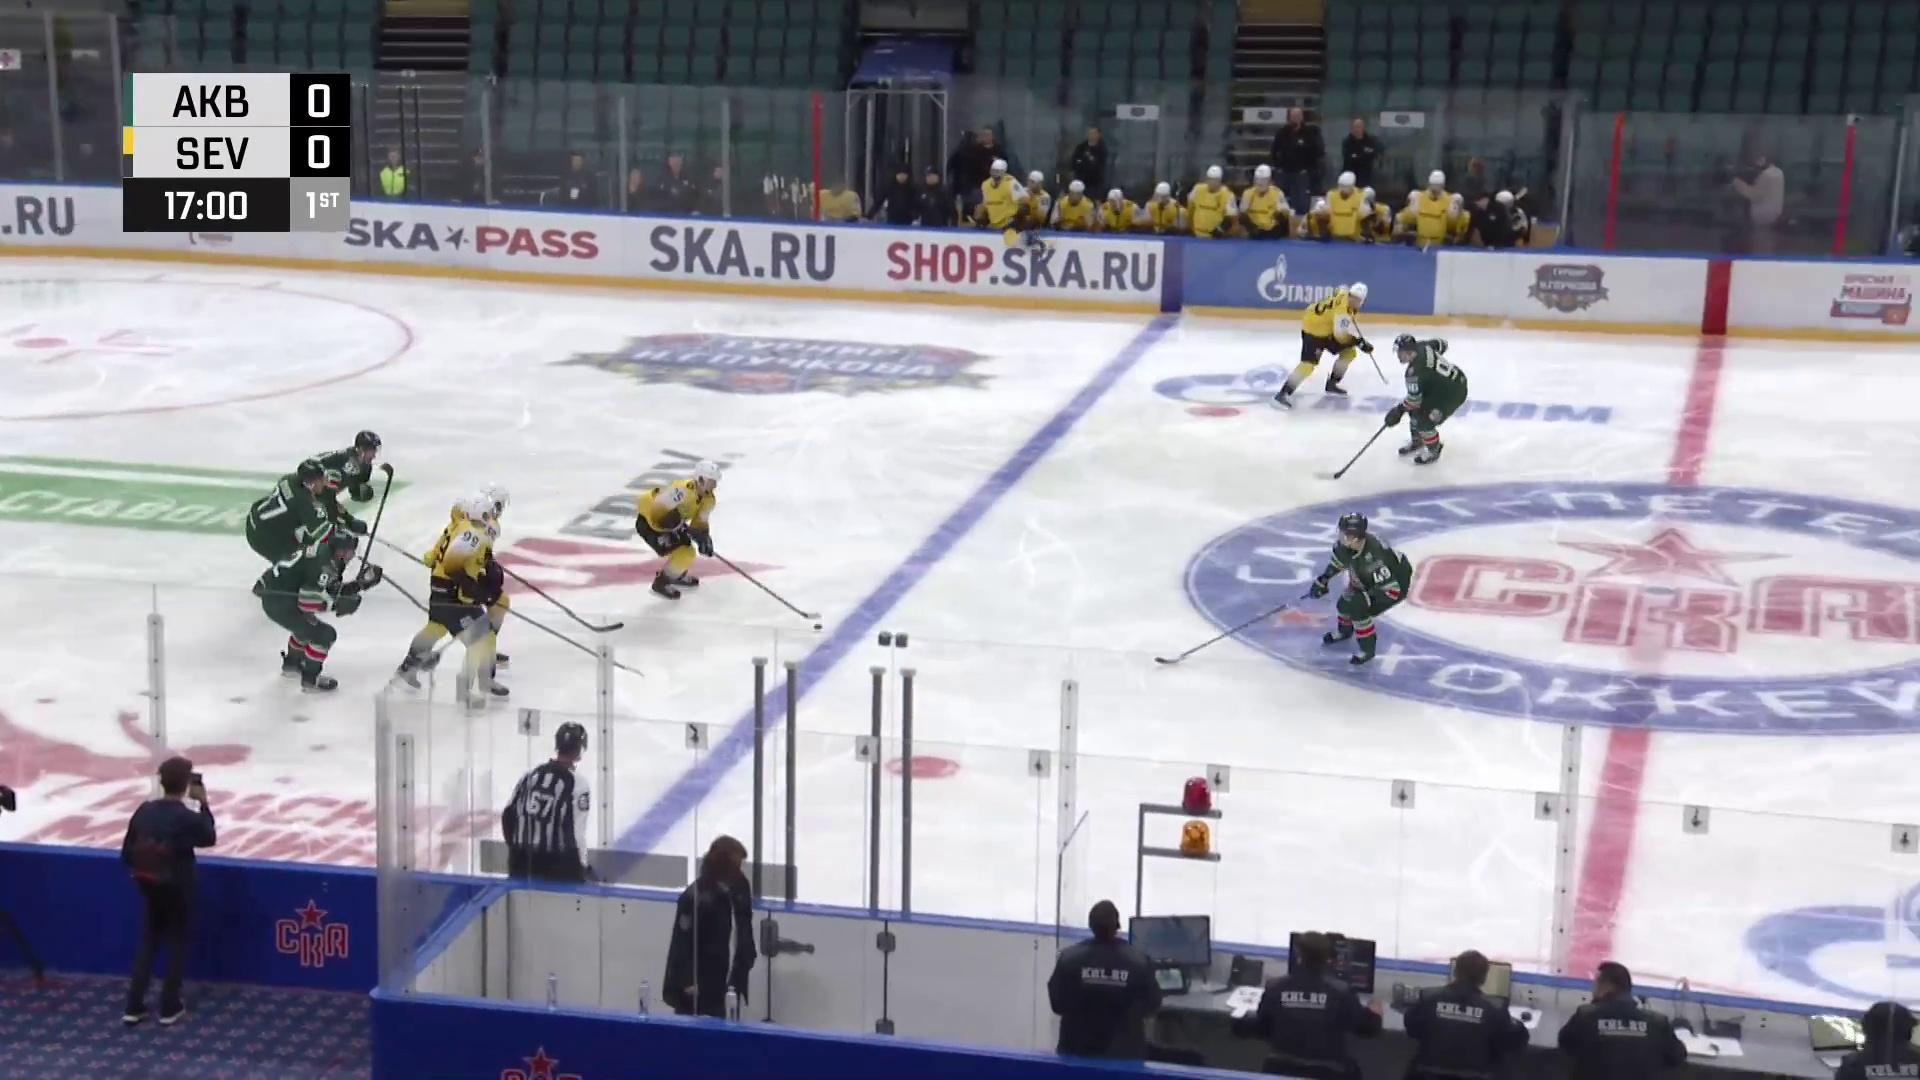ball: (812, 621, 824, 633)
